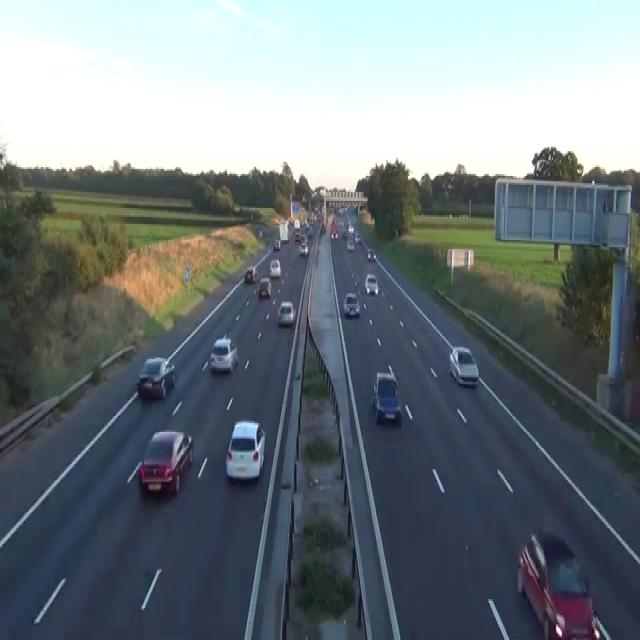Car: (516, 530, 601, 638), (138, 428, 193, 496), (225, 420, 265, 480), (137, 356, 176, 398), (372, 370, 401, 425), (448, 345, 479, 386), (209, 336, 238, 373), (591, 612, 613, 638), (277, 300, 294, 326), (343, 292, 360, 316), (364, 272, 378, 295), (257, 277, 271, 297), (387, 364, 398, 388), (244, 265, 257, 283), (269, 258, 281, 277), (367, 247, 376, 261), (299, 242, 308, 256), (346, 237, 354, 250), (305, 224, 313, 236), (273, 238, 280, 251), (338, 218, 345, 228), (355, 231, 361, 242), (294, 231, 300, 242), (347, 224, 354, 233), (331, 230, 338, 238), (321, 222, 326, 233), (300, 233, 306, 242), (301, 194, 306, 204), (274, 217, 279, 226), (341, 230, 346, 238), (259, 230, 262, 237)
Truck: (279, 220, 289, 242)
